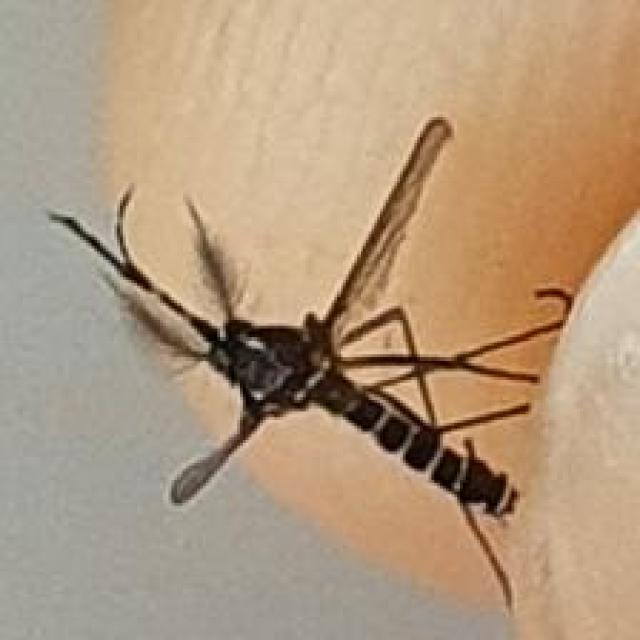Aedes albopictus: (47, 113, 576, 616)
